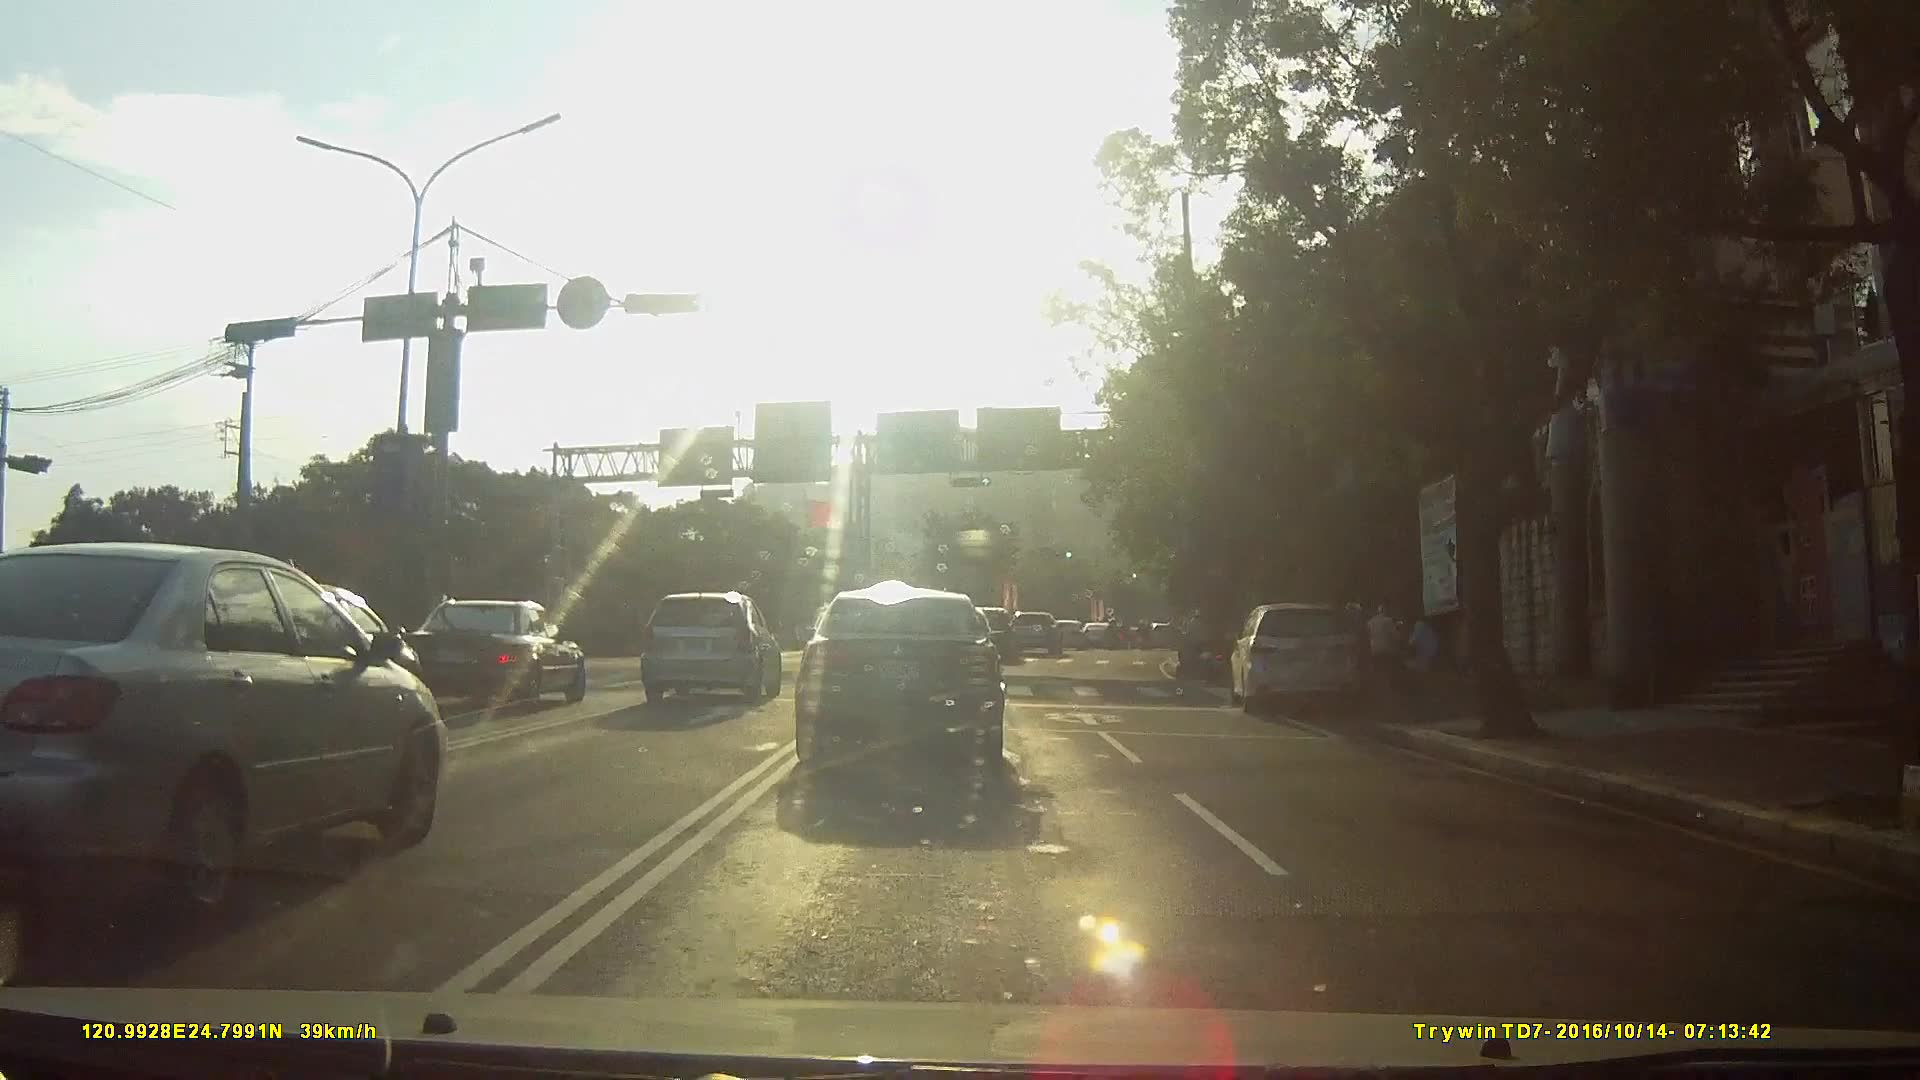pedestrian: (1366, 604, 1408, 668), (1413, 617, 1449, 685)
rider: (1177, 604, 1234, 684)
vehicle: (0, 541, 452, 921), (794, 593, 1028, 795), (391, 597, 593, 714), (1224, 600, 1383, 721), (639, 589, 784, 708), (965, 605, 1027, 663), (1011, 612, 1069, 658), (1054, 618, 1093, 650), (1084, 621, 1121, 649)
